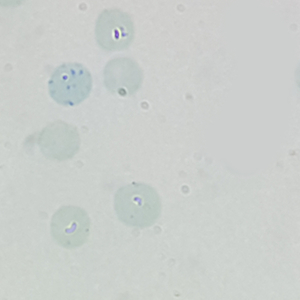aggregate reticulocyte: (47, 61, 93, 108)
erythrocyte: (101, 56, 146, 100), (93, 8, 137, 52), (36, 120, 81, 162)
punctate reticulocyte: (111, 182, 163, 230), (48, 205, 93, 249)
